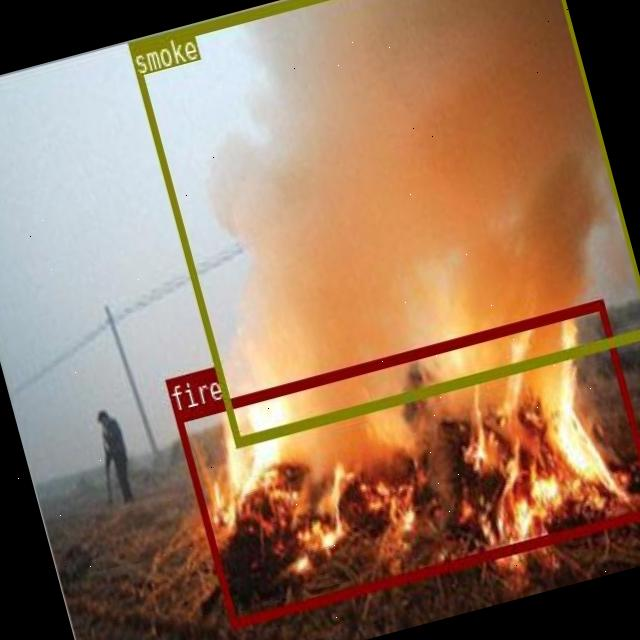fire: (173, 297, 640, 627)
smoke: (127, 0, 640, 445)
